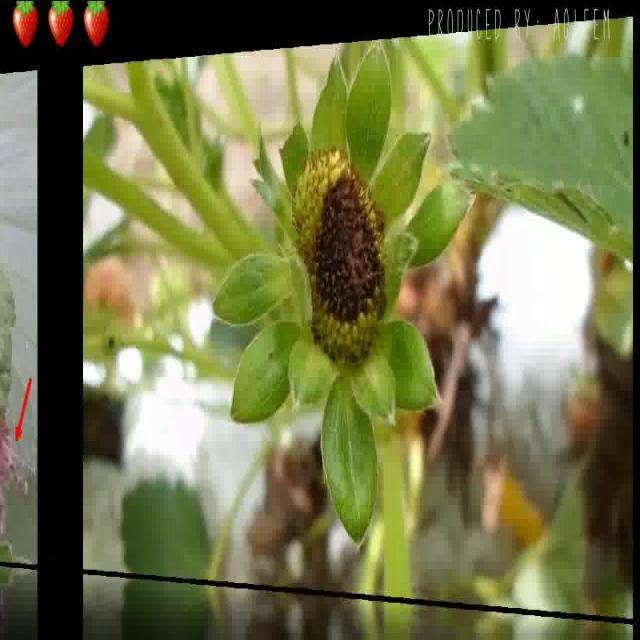Mancha negra Antracnosis: (281, 133, 385, 368)
